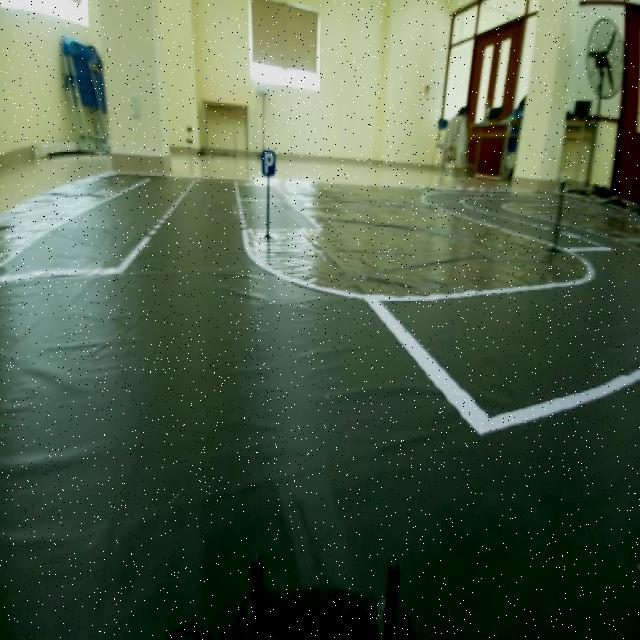parking: (258, 144, 282, 186)
